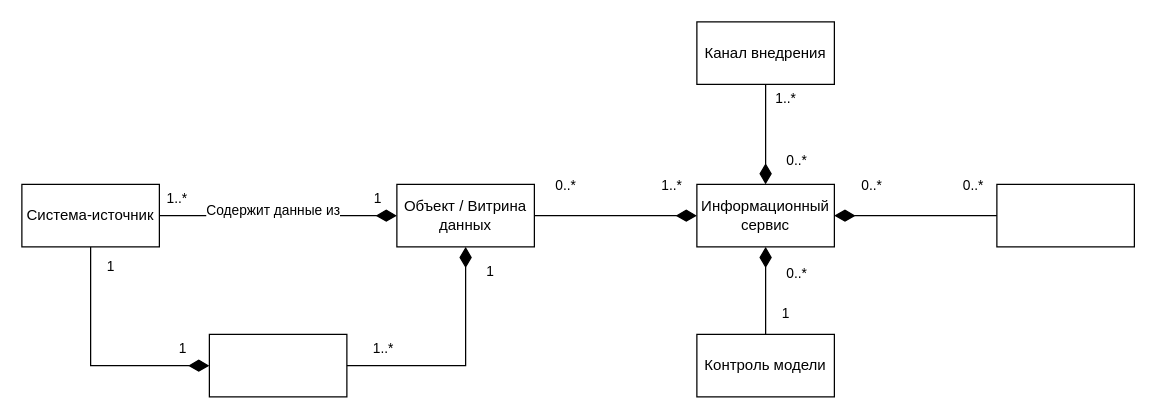
The diagram is 1156 pixels wide and 419 high, and some of its shapes have lost their labels. Here are the shapes that lost their labels. From the top down, the centre of each, then its label:
At (1065,215): "Модель".
At (277,365): "Процесс обработки данных".
